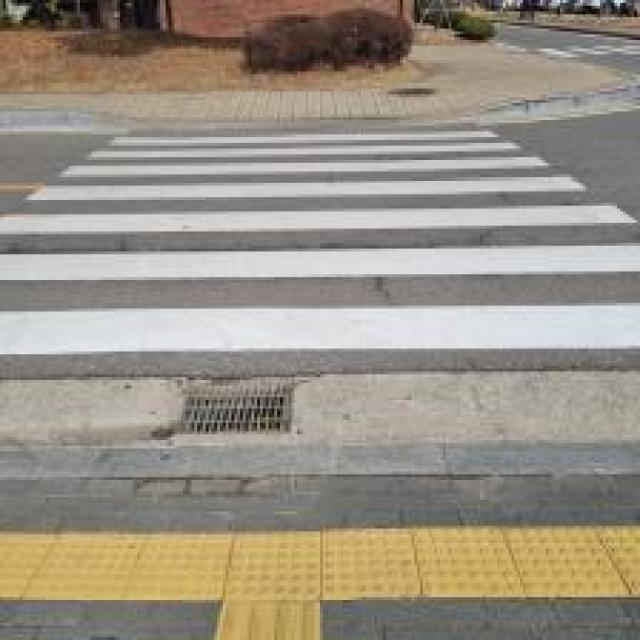zebra: (64, 122, 636, 404)
